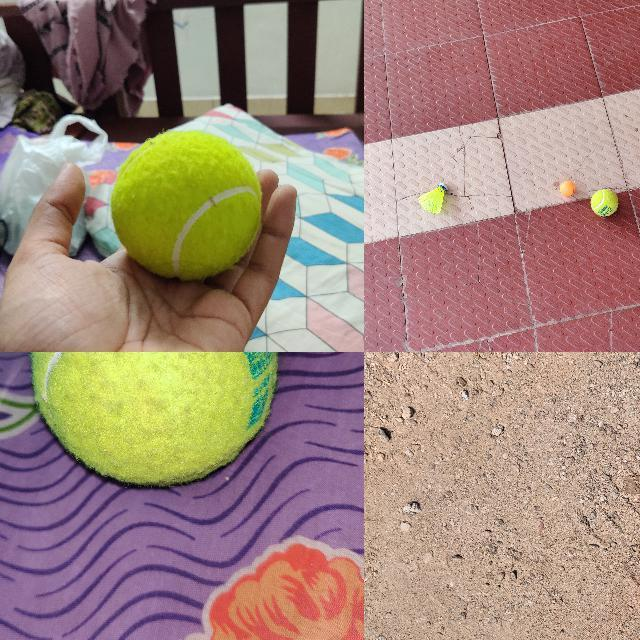tennis-ball: (30, 352, 281, 487), (111, 130, 261, 280), (590, 188, 618, 216)
